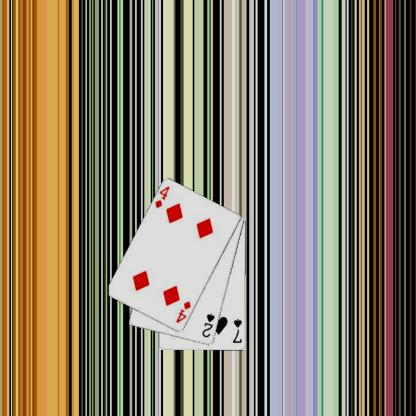2S: (200, 311, 216, 339)
4D: (152, 184, 170, 210), (174, 299, 192, 324)
7S: (230, 317, 243, 344)
